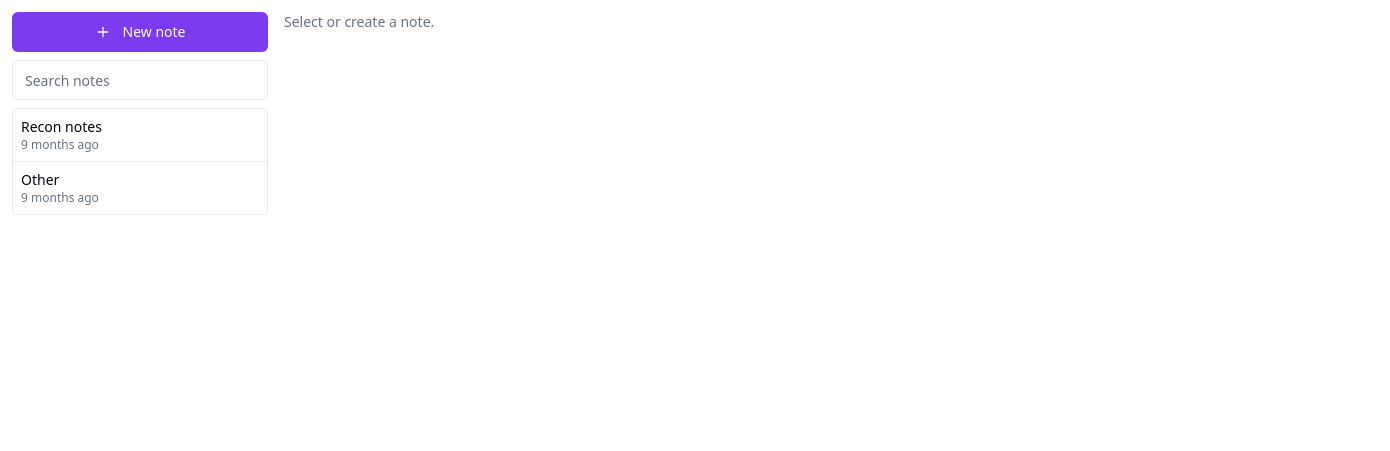
Scenario: NotesEditor › tracks dirty state and disables Save when clean
Click the text "Recon notes" at [61, 126], box [21,117,102,136]
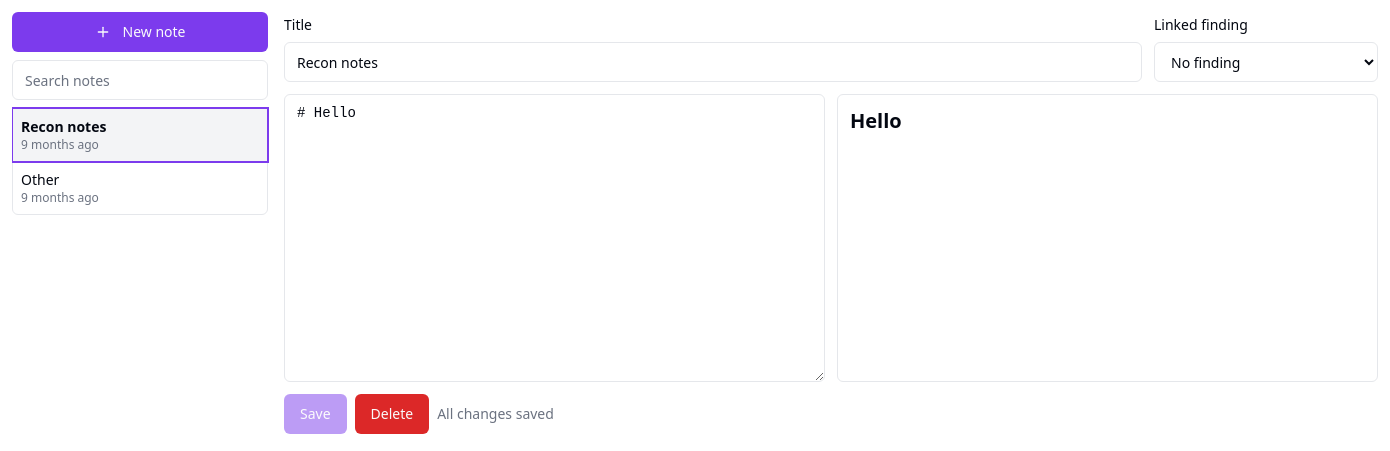
expect the button "Save" is disabled: met, box [284,394,347,434]
expect the text "All changes saved" is shown: met, box [437,404,554,424]
Type "!" into the text box named "Markdown" at [554, 238], box [284,94,825,382]
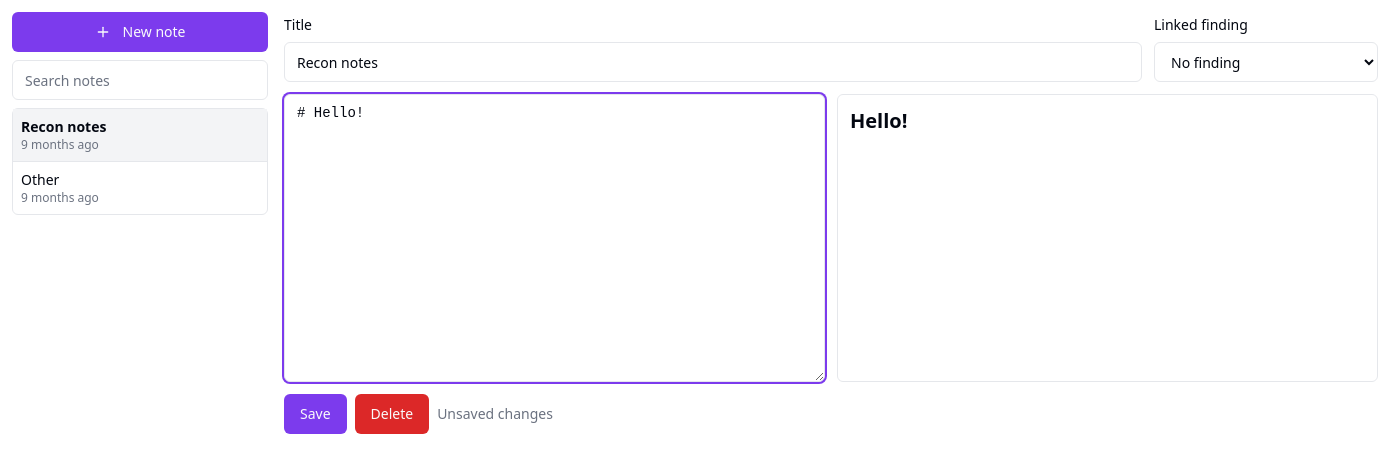
expect the text "Unsaved changes" is shown: met, box [437,404,553,424]
expect the button "Save" is enabled: met, box [284,394,347,434]
